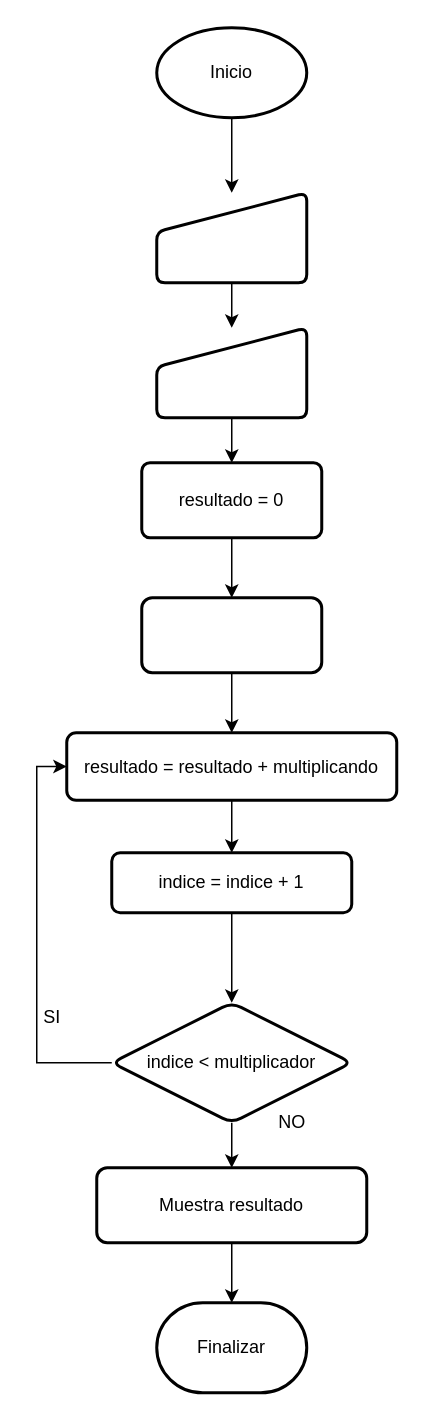
The diagram is 425 pixels wide and 1419 high, and some of its shapes have lost their labels. Here are the shapes that lost their labels. From the top down, the box of each, then its label:
(154, 190, 308, 284): multiplicando
(154, 326, 308, 418): multiplicador
(140, 596, 322, 674): indice = 0
